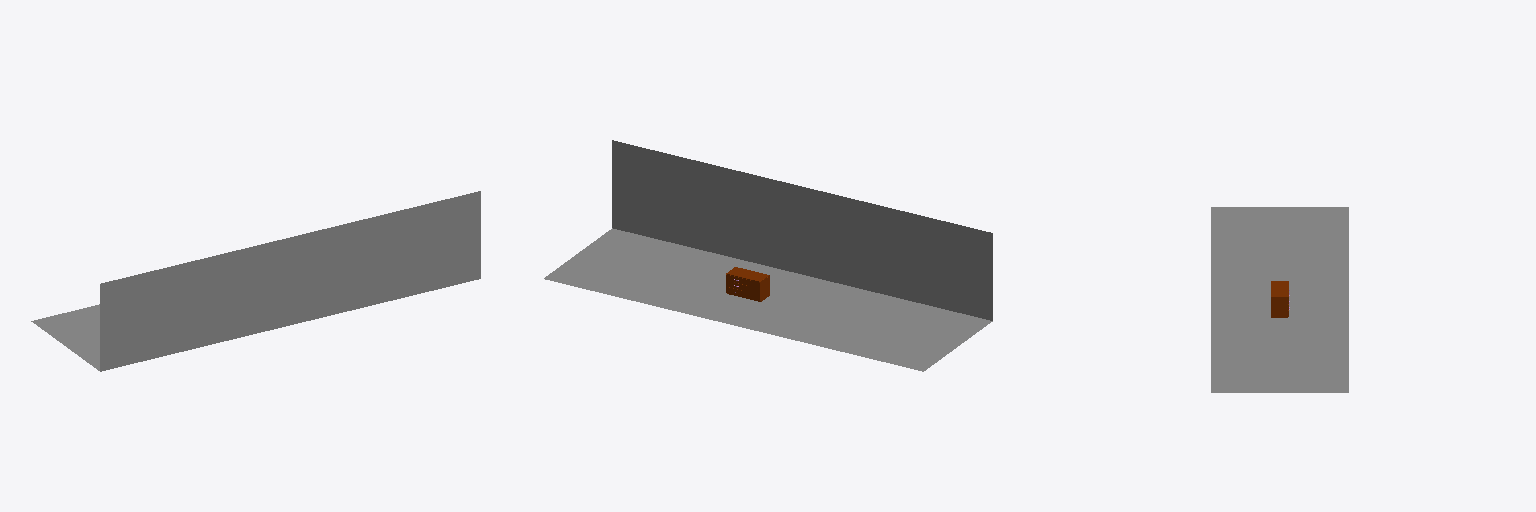
File: СhestOfDrawers.obj
3 views of the same model, side by side, from view 1: azimuth 30°, elevation 25°; view 2: azimuth 150°, elevation 25°; view 3: azimuth 270°, elevation 25° (orthographic).
Parts seen in each view (by area): view 1: Plane001; view 2: Plane001, Box002; view 3: Plane001, Box002.
Boxes of the visible parts, x1,y1,x2,y2 form: Plane001: [31, 191, 480, 371]; Plane001: [544, 140, 992, 371]; Box002: [726, 267, 769, 301]; Plane001: [1211, 207, 1348, 392]; Box002: [1271, 281, 1288, 317].
Size of the model in its own units: 729 by 161 by 230.